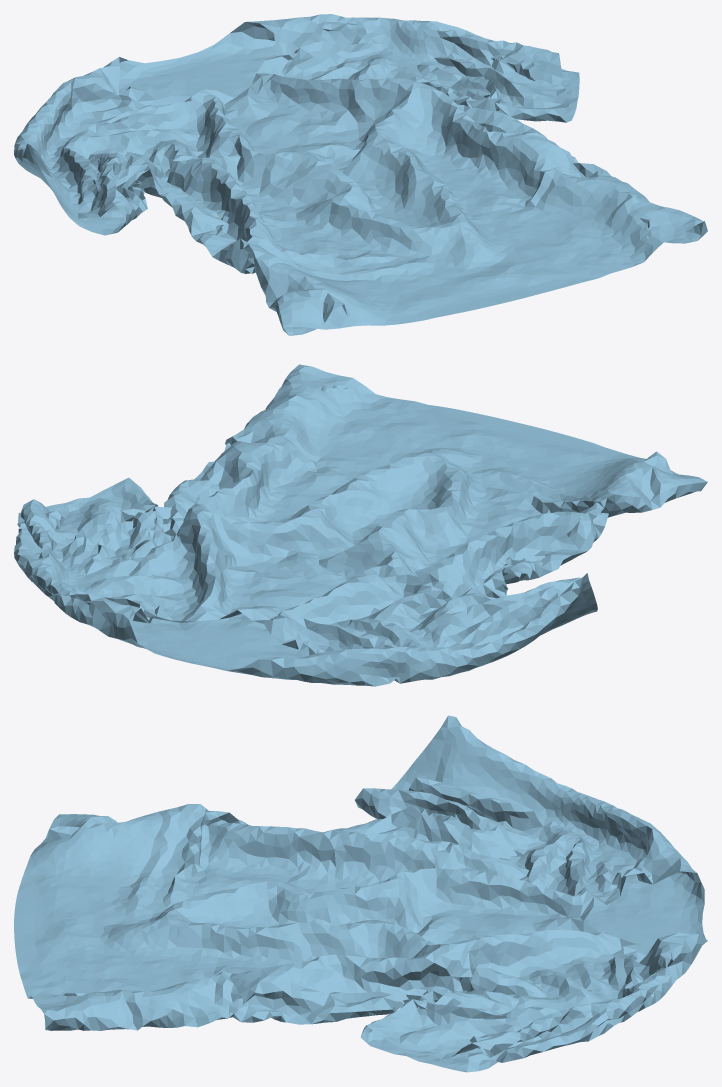
Rendered from frame_03.glb.
3 renders of one model, top to bottom at view 1: azimuth 30°, elevation 25°; view 2: azimuth 150°, elevation 25°; view 3: azimuth 270°, elevation 25°, orthographic. The views are drawn at different scales.
Visible parts, largest first — view 1: frame_03.obj; view 2: frame_03.obj; view 3: frame_03.obj.
Part boxes in pixels (x1,y1,x2,y2): frame_03.obj: (14,14,707,335); frame_03.obj: (14,364,707,686); frame_03.obj: (14,715,707,1072).
Size of the model in its own units: 1.66 by 0.2169 by 1.71.
